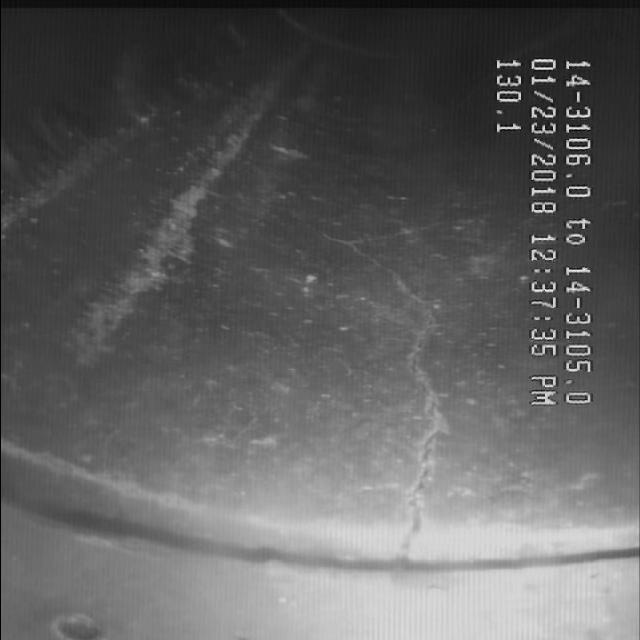Crack: (364, 258, 474, 532)
